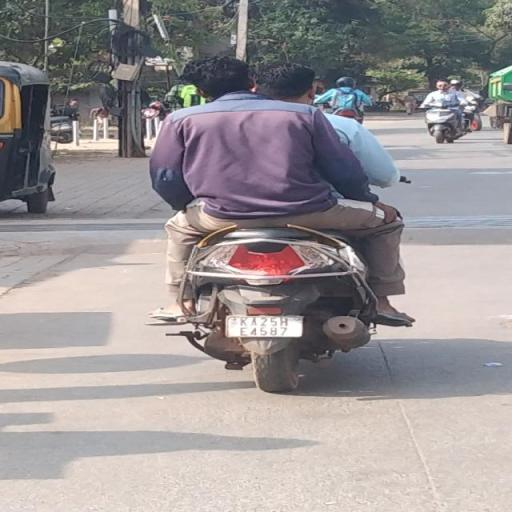bike: (134, 53, 414, 396)
numberplate: (226, 316, 304, 339)
withouthelmet: (188, 57, 248, 92), (255, 65, 315, 98)
